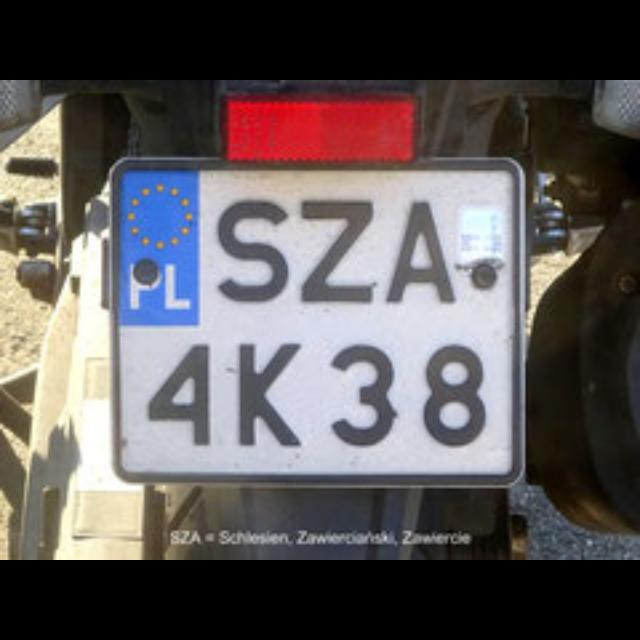pl_license_plate: (117, 168, 509, 472)
